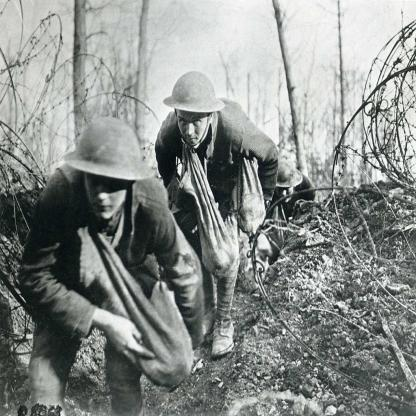face: (85, 160, 129, 221), (177, 101, 209, 149)
